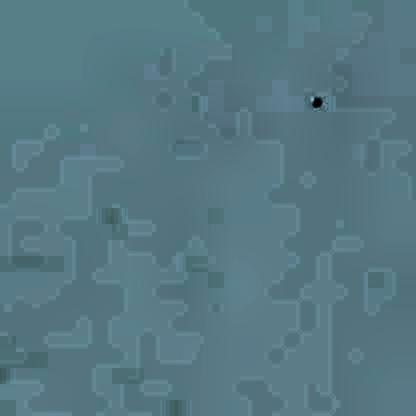golfball: (307, 90, 320, 106)
